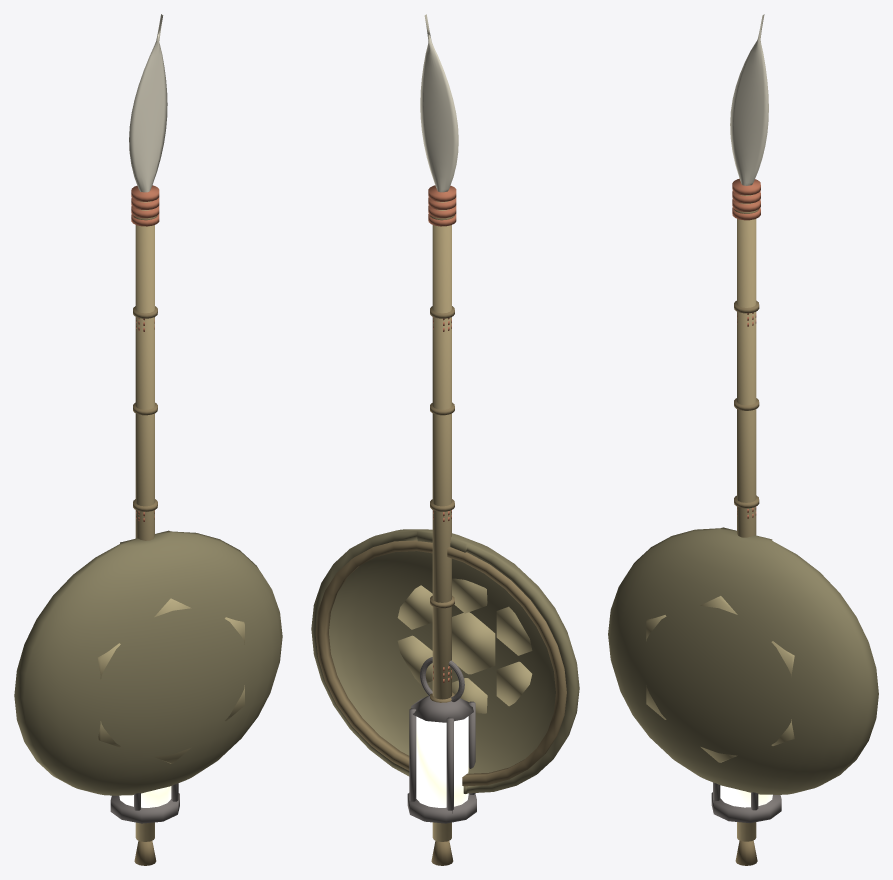
The model's file is gear.glb.
3 views of the same model, side by side, from view 1: azimuth 30°, elevation 25°; view 2: azimuth 150°, elevation 25°; view 3: azimuth 330°, elevation 25° (orthographic).
Parts seen in each view (by area): view 1: shield, glaive, lantern; view 2: shield, glaive, lantern; view 3: shield, glaive, lantern.
Boxes of the visible parts, <box> form: shield: <box>14,530,282,795</box>; glaive: <box>129,14,167,865</box>; lantern: <box>110,783,179,823</box>; shield: <box>311,529,579,793</box>; glaive: <box>420,14,458,865</box>; lantern: <box>407,657,476,823</box>; shield: <box>608,527,878,794</box>; glaive: <box>730,14,768,865</box>; lantern: <box>711,782,781,823</box>.
Bounding box in the file's own units: 0.9478 × 2.88 × 0.315.
